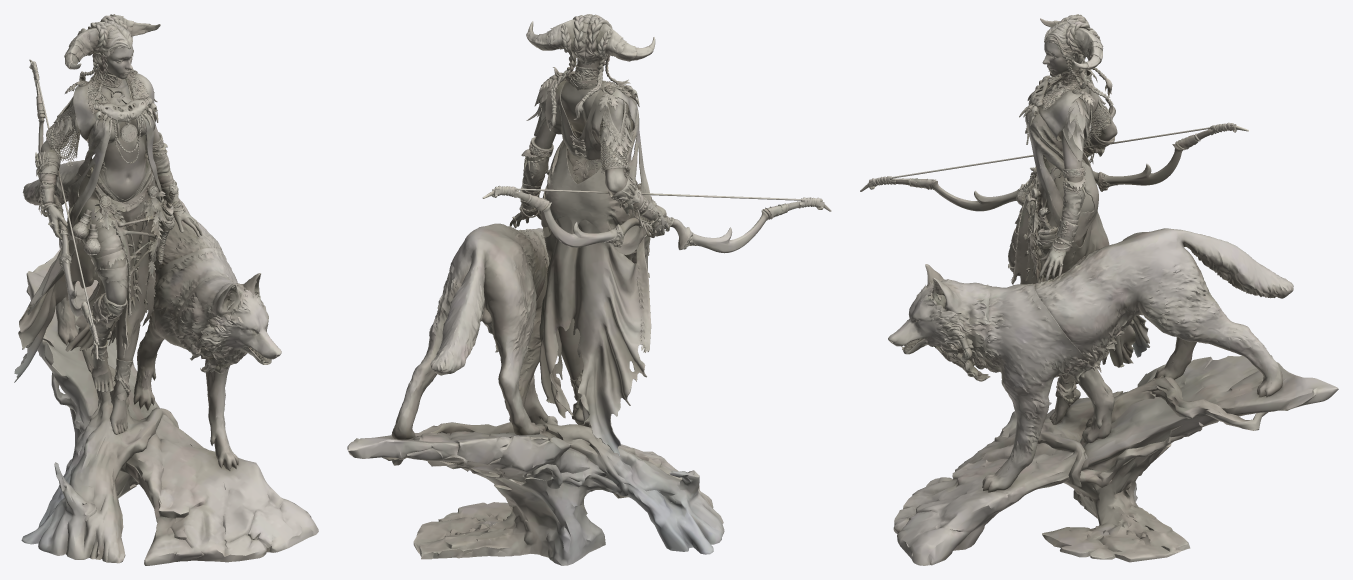
File: nemetona.glb
3 renders of one model, left to right at view 1: azimuth 30°, elevation 25°; view 2: azimuth 150°, elevation 25°; view 3: azimuth 270°, elevation 25°, orthographic. The views are drawn at different scales.
Bounding box in the file's own units: 0.1798 × 0.3306 × 0.2978.
Materials: 1 (1 with a texture image).
